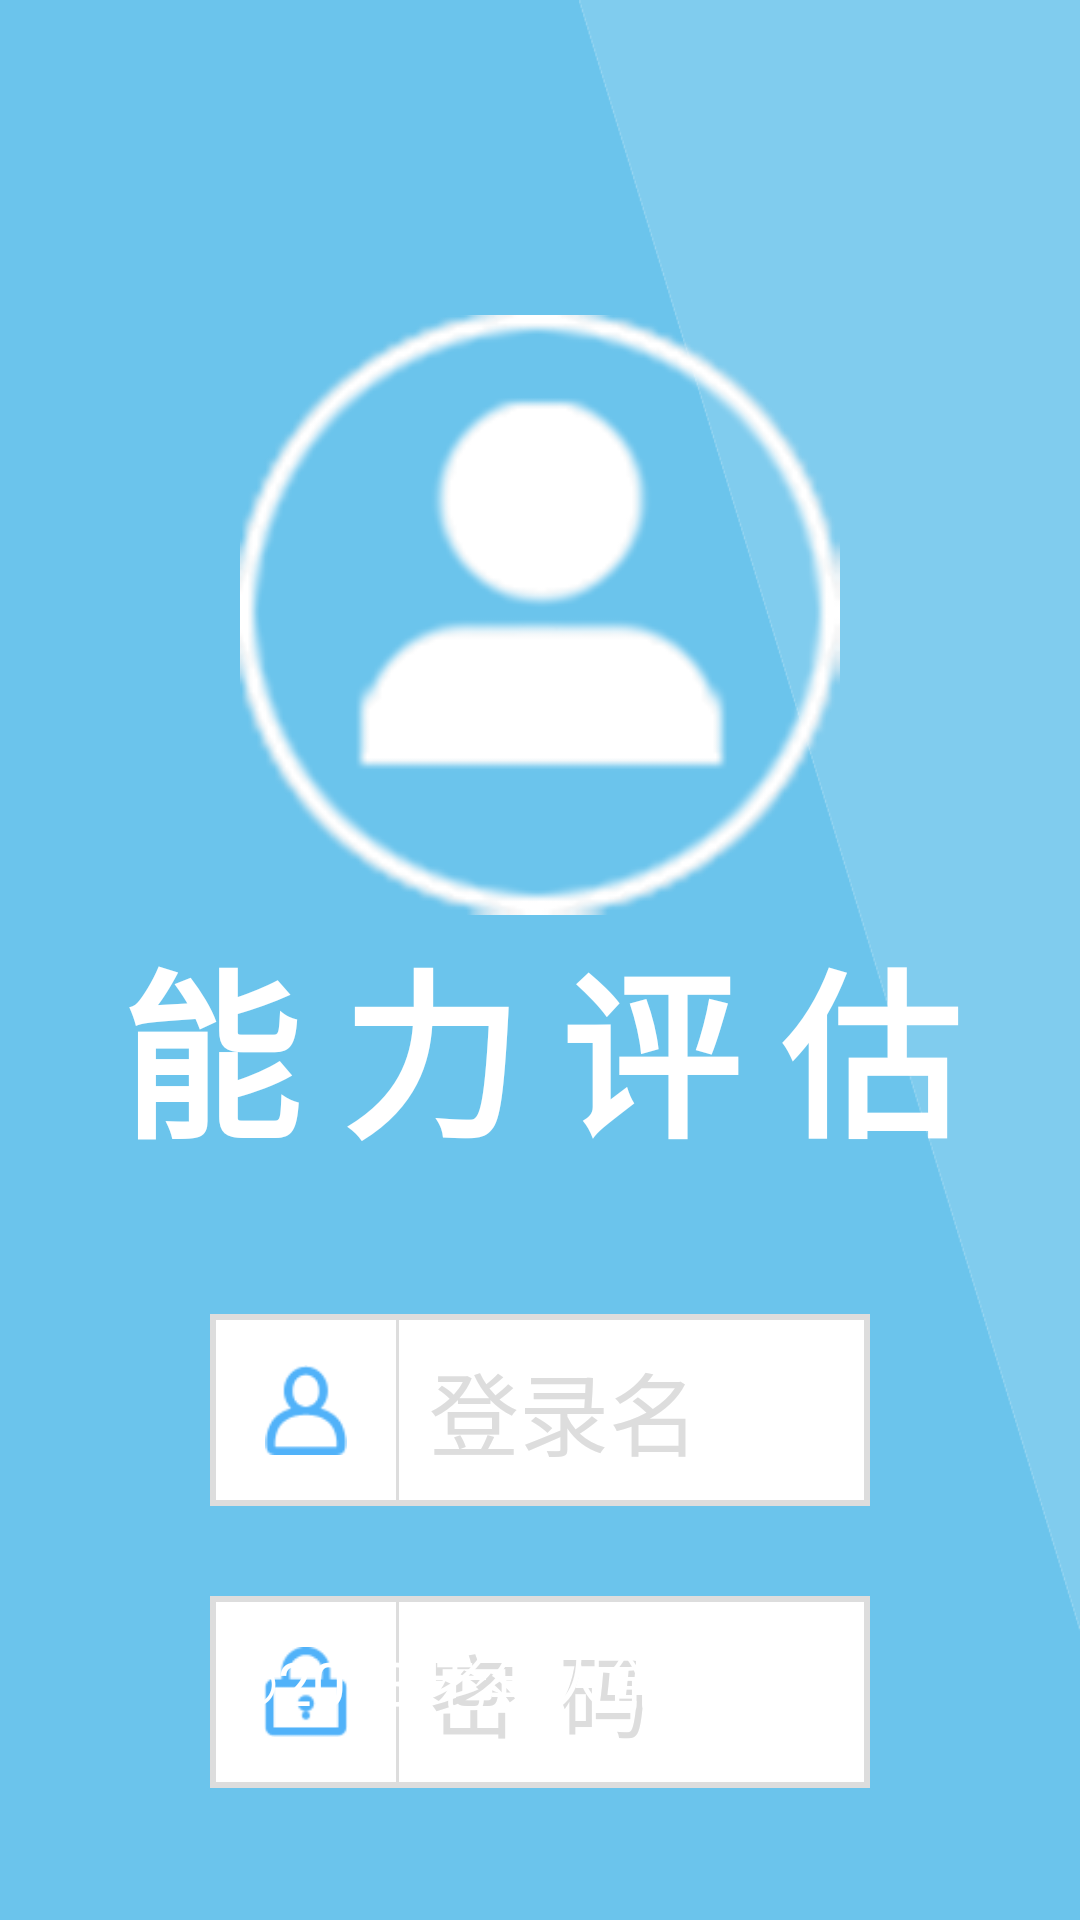

Named icons in this screenshot (1080x1920) and their bounding boxes, (left=x1, top=y1, right=x2, bottom=y2):
user: (left=216, top=1320, right=396, bottom=1500)
